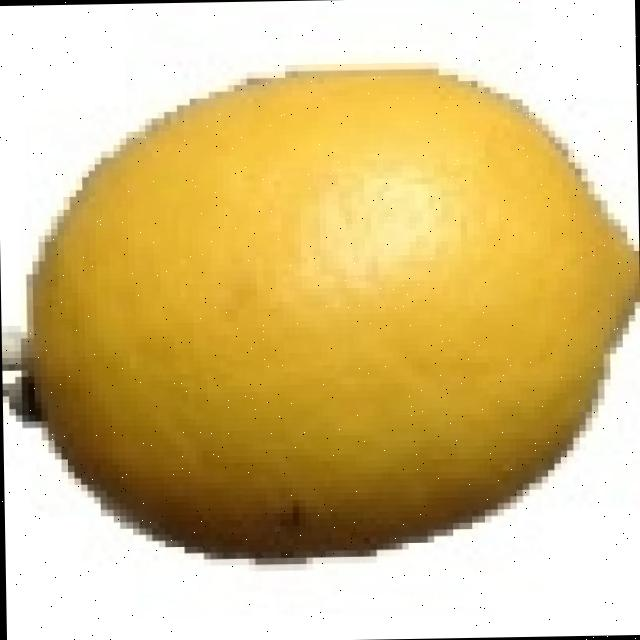lemon: (21, 70, 640, 557)
